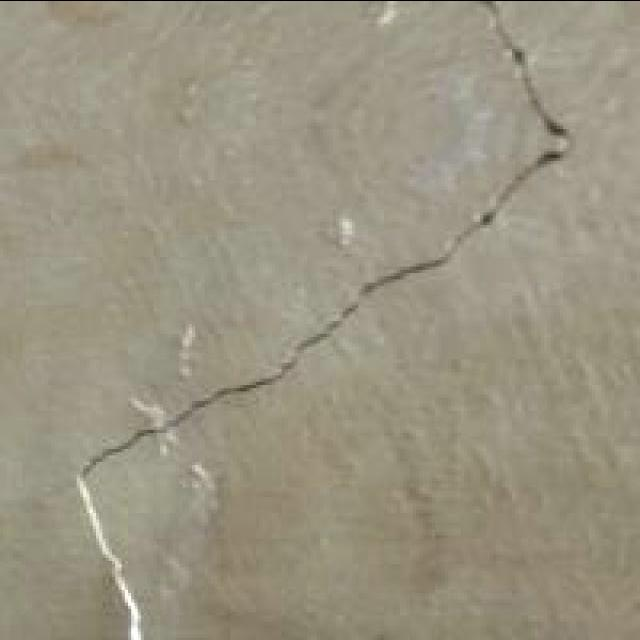SurfaceCrack: (54, 0, 586, 640)
